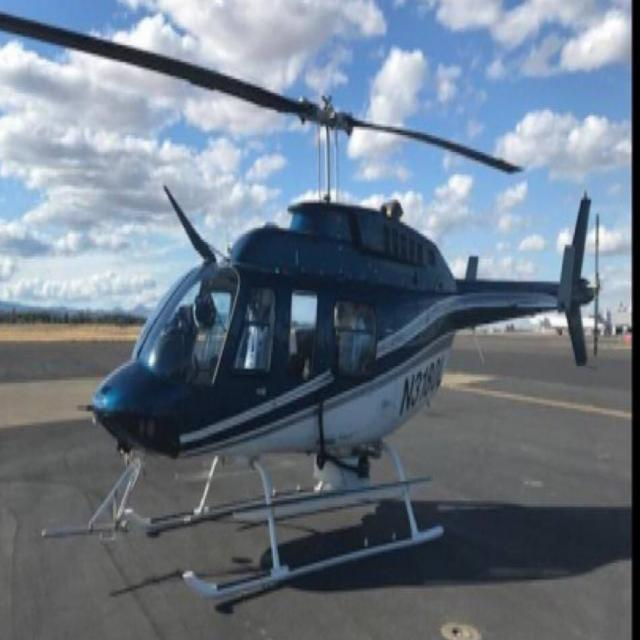helicopter: (1, 2, 610, 618)
